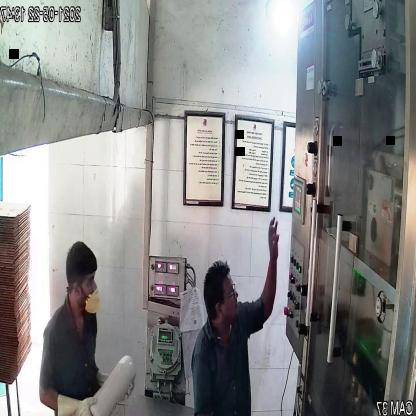goggles: (214, 280, 241, 305)
